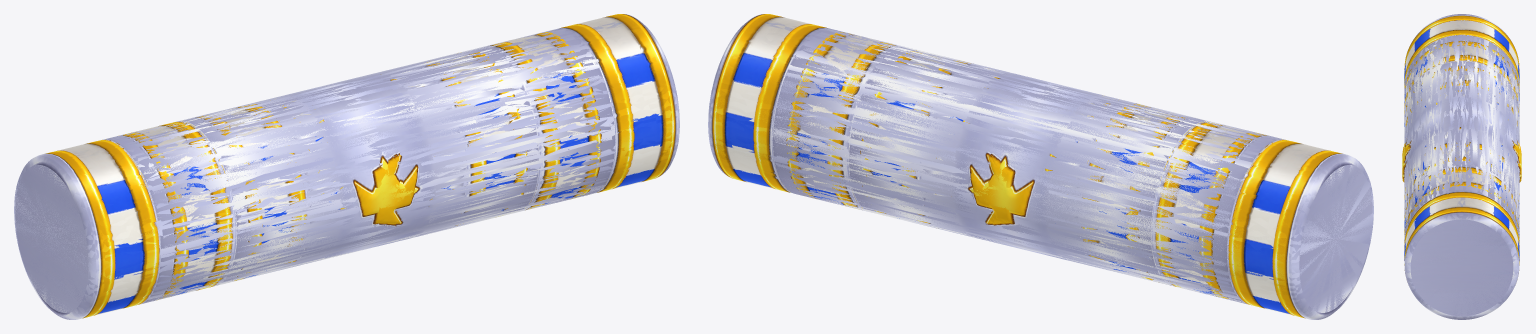
Rendered from can-artwork-78.glb.
3 views of the same model, side by side, from view 1: azimuth 30°, elevation 25°; view 2: azimuth 150°, elevation 25°; view 3: azimuth 270°, elevation 25° (orthographic). The views are drawn at different scales.
Parts seen in each view (by area): view 1: SILVER_CONTAINER_XLong_Surface, SILVER_CONTAINER_Vertical_XLong_Surface, SILVER_CONTAINER_Long_Surface, SILVER_CONTAINER_Vertical_Long_Surface, SILVER_CONTAINER_Vertical_Base_Surface, SILVER_CONTAINER_Base_Surface, SILVER_CONTAINER_Cube_Surface; view 2: SILVER_CONTAINER_XLong_Surface, SILVER_CONTAINER_Vertical_XLong_Surface, SILVER_CONTAINER_Long_Surface, SILVER_CONTAINER_Vertical_Long_Surface, SILVER_CONTAINER_Base_Surface, SILVER_CONTAINER_Vertical_Base_Surface, SILVER_CONTAINER_Cube_Surface; view 3: SILVER_CONTAINER_XLong_Surface, SILVER_CONTAINER_Vertical_XLong_Surface, SILVER_CONTAINER_Long_Surface, SILVER_CONTAINER_Vertical_Long_Surface, SILVER_CONTAINER_Vertical_Base_Surface, SILVER_CONTAINER_Base_Surface, SILVER_CONTAINER_Cube_Surface.
Part boxes in pixels (x1,y1,x2,y2): SILVER_CONTAINER_XLong_Surface: (14,14,679,319); SILVER_CONTAINER_Vertical_XLong_Surface: (14,14,679,319); SILVER_CONTAINER_Long_Surface: (118,32,601,297); SILVER_CONTAINER_Vertical_Long_Surface: (120,32,601,298); SILVER_CONTAINER_Vertical_Base_Surface: (196,55,527,280); SILVER_CONTAINER_Base_Surface: (194,52,527,276); SILVER_CONTAINER_Cube_Surface: (274,73,453,244); SILVER_CONTAINER_XLong_Surface: (708,14,1373,319); SILVER_CONTAINER_Vertical_XLong_Surface: (708,14,1373,319); SILVER_CONTAINER_Long_Surface: (786,32,1269,298); SILVER_CONTAINER_Vertical_Long_Surface: (786,32,1266,298); SILVER_CONTAINER_Base_Surface: (861,50,1180,279); SILVER_CONTAINER_Vertical_Base_Surface: (860,51,1187,280); SILVER_CONTAINER_Cube_Surface: (936,68,1114,232); SILVER_CONTAINER_XLong_Surface: (1402,14,1521,319); SILVER_CONTAINER_Vertical_XLong_Surface: (1402,14,1521,319); SILVER_CONTAINER_Long_Surface: (1402,40,1521,234); SILVER_CONTAINER_Vertical_Long_Surface: (1403,40,1520,238); SILVER_CONTAINER_Vertical_Base_Surface: (1402,65,1521,208); SILVER_CONTAINER_Base_Surface: (1402,65,1521,201); SILVER_CONTAINER_Cube_Surface: (1404,90,1518,155).
Size of the model in its own units: 4 by 1 by 1.
Materials: 1 (1 with a texture image).
